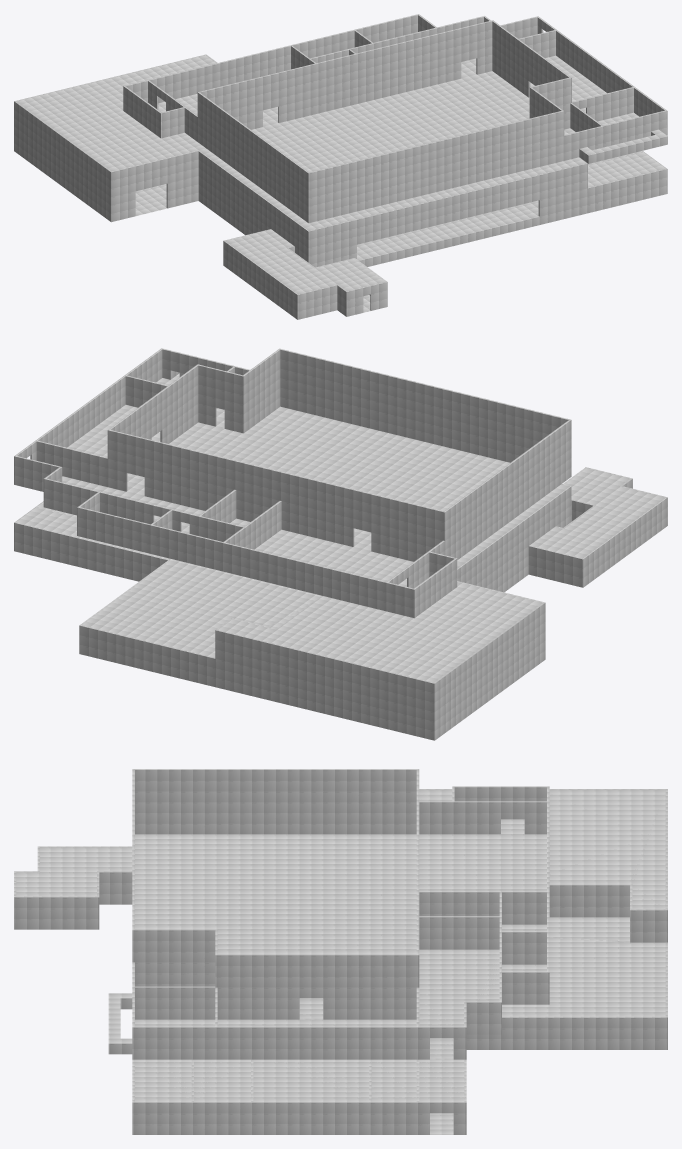
Rendered from la_guardia_air_terminal.obj.
3 renders of one model, top to bottom at view 1: azimuth 30°, elevation 25°; view 2: azimuth 150°, elevation 25°; view 3: azimuth 270°, elevation 25°, orthographic. The views are drawn at different scales.
Visible parts, largest first — view 1: map_la_guardia_air_terminal_Cube.001; view 2: map_la_guardia_air_terminal_Cube.001; view 3: map_la_guardia_air_terminal_Cube.001.
Part boxes in pixels (x1=…): map_la_guardia_air_terminal_Cube.001: x1=14, y1=14, x2=667, y2=319; map_la_guardia_air_terminal_Cube.001: x1=14, y1=348, x2=667, y2=740; map_la_guardia_air_terminal_Cube.001: x1=14, y1=769, x2=667, y2=1134.
Size of the model in its own units: 56.2 by 13 by 55.2.
